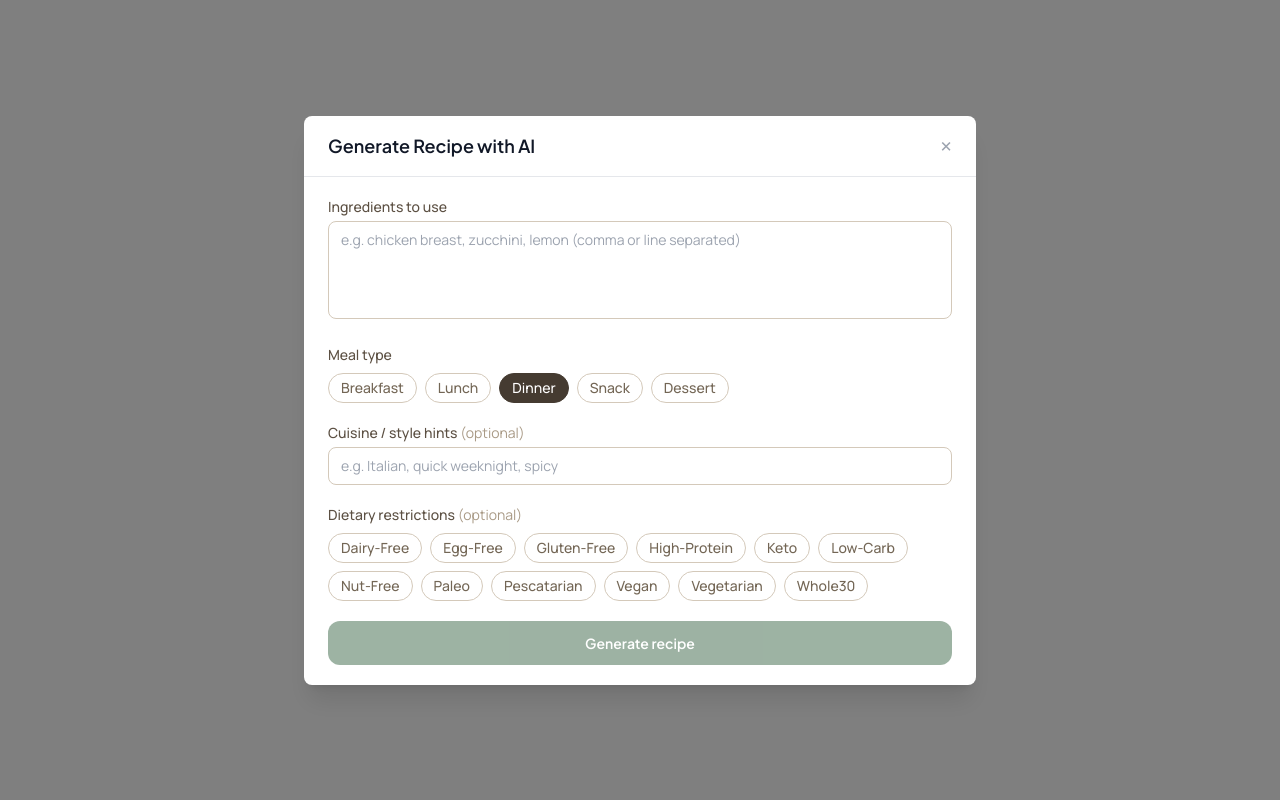
Test: T20 - Start over returns to generate tab › shows generate form again after Start over
Replace the text in the text box with placeholder "e.g. chicken breast" with "chicken breast" at (640, 270), box 328,220 -> 952,318
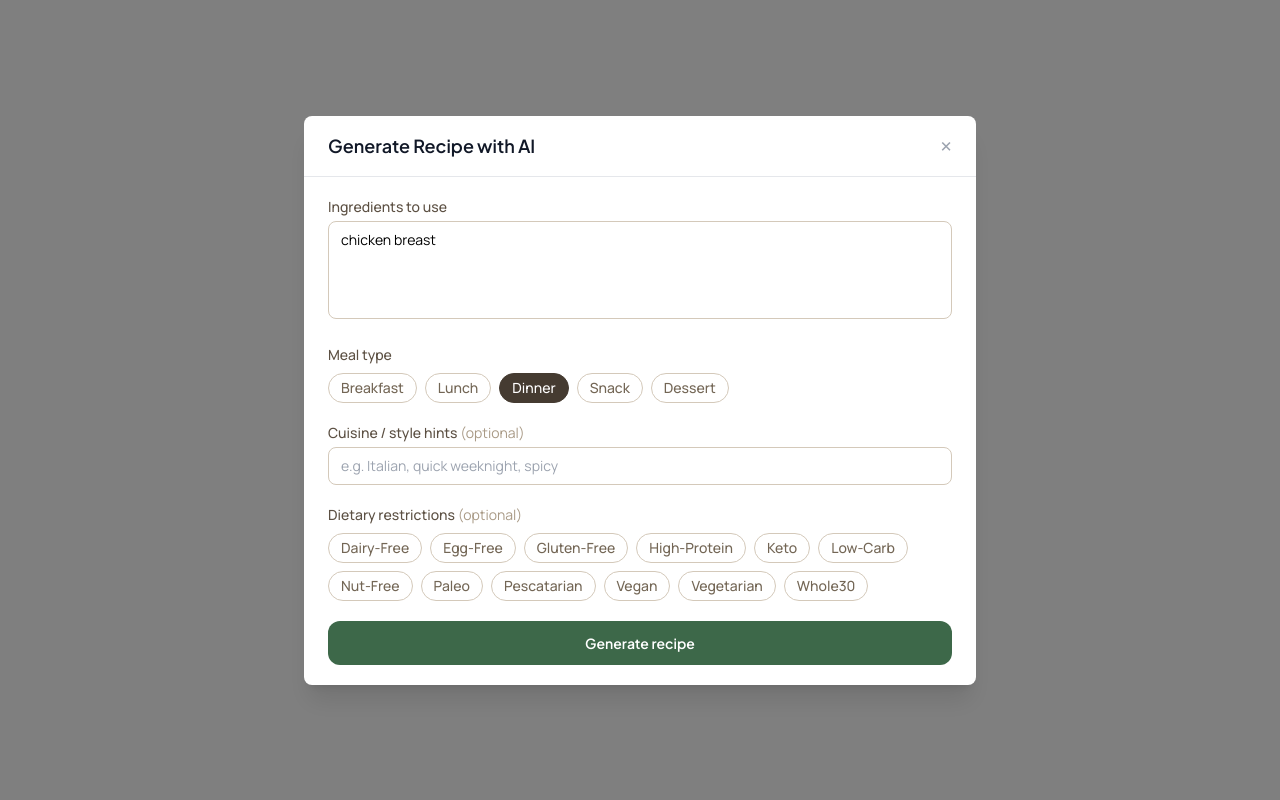
Click the button "Generate recipe".
click(640, 642)  # box 328,620 -> 952,664
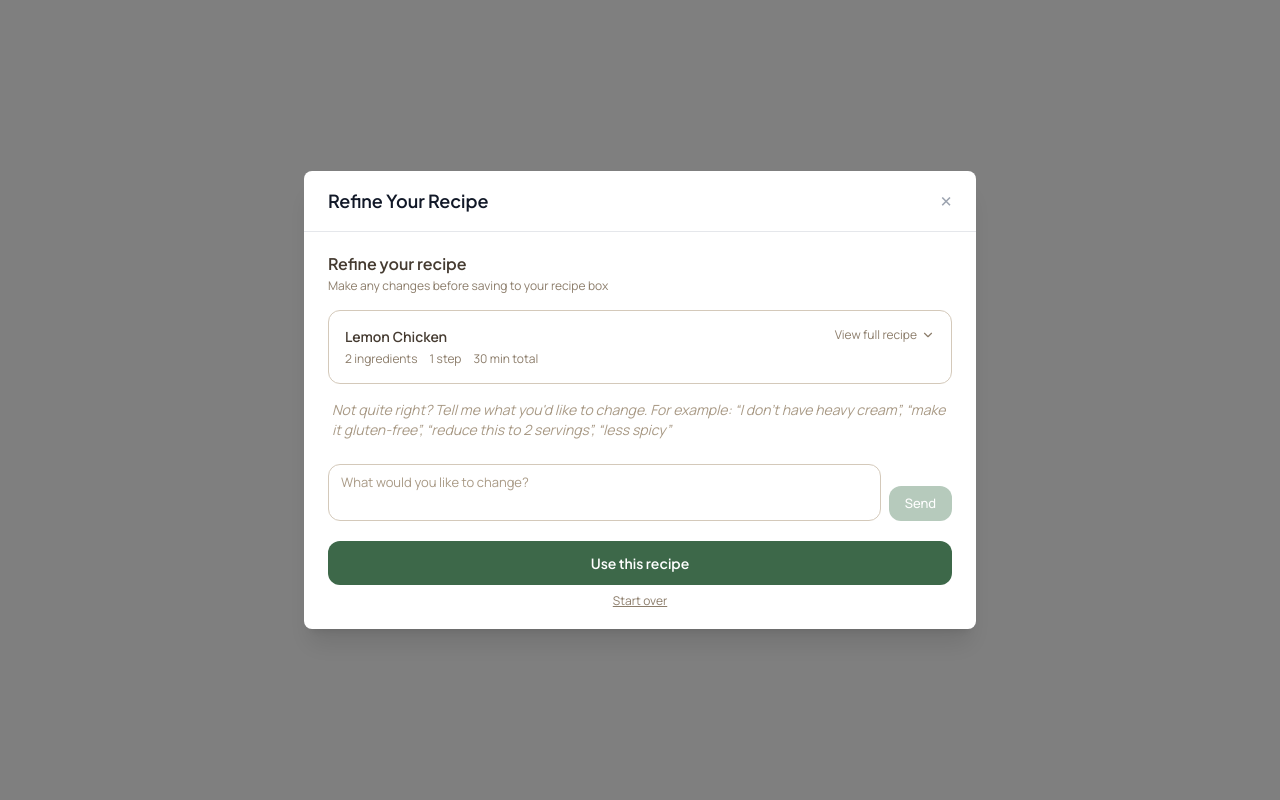
Now the button "Use this recipe" is shown, box 328,541 -> 952,585
Click the button "Start over".
click(640, 601)  # box 613,593 -> 667,609
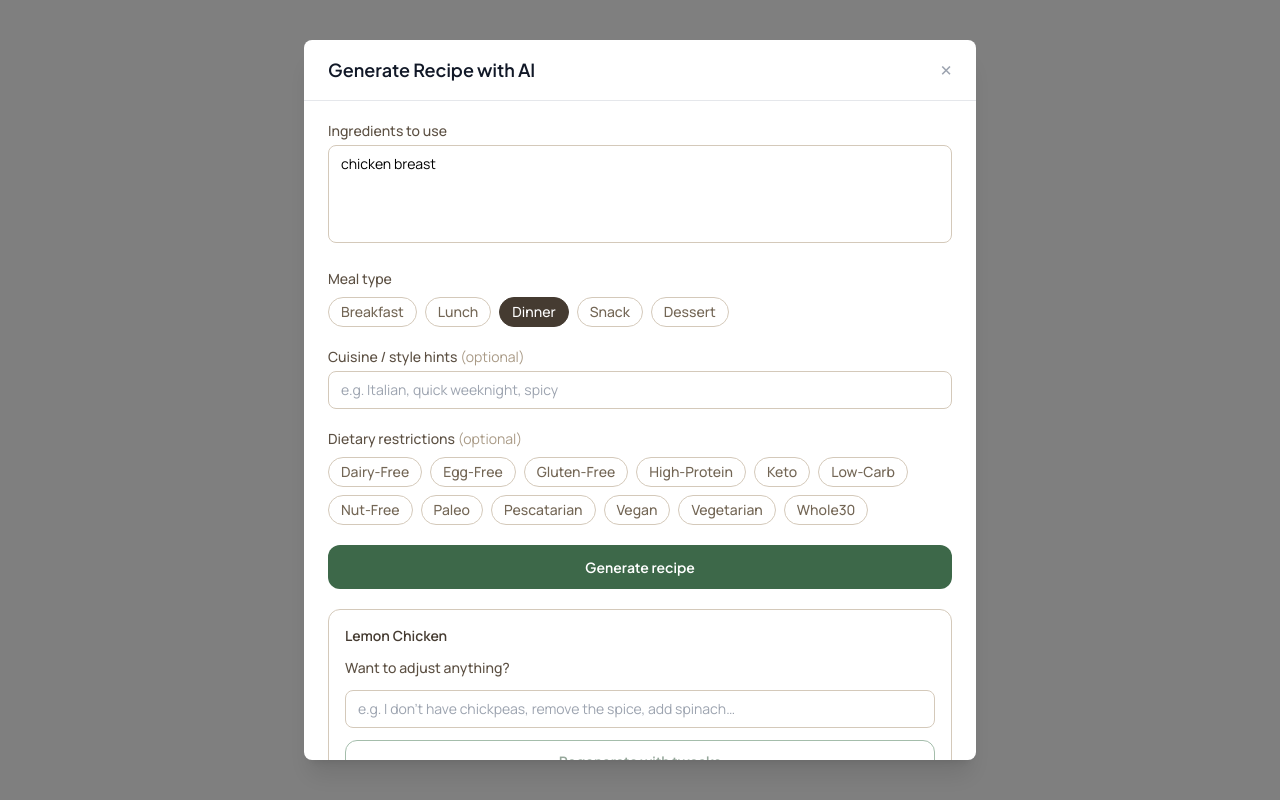
Now the button "Use this recipe" is gone
